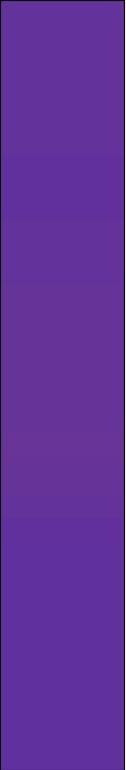safe: (9, 6, 119, 753)
